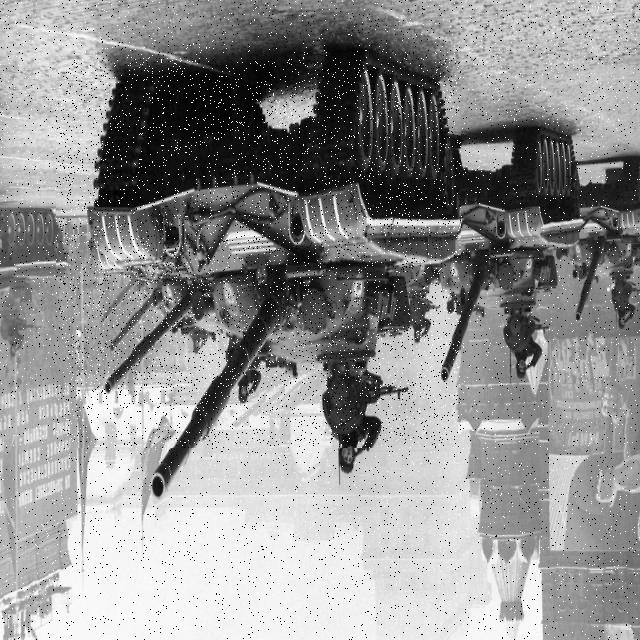MIL_MBT: (56, 58, 460, 447)
